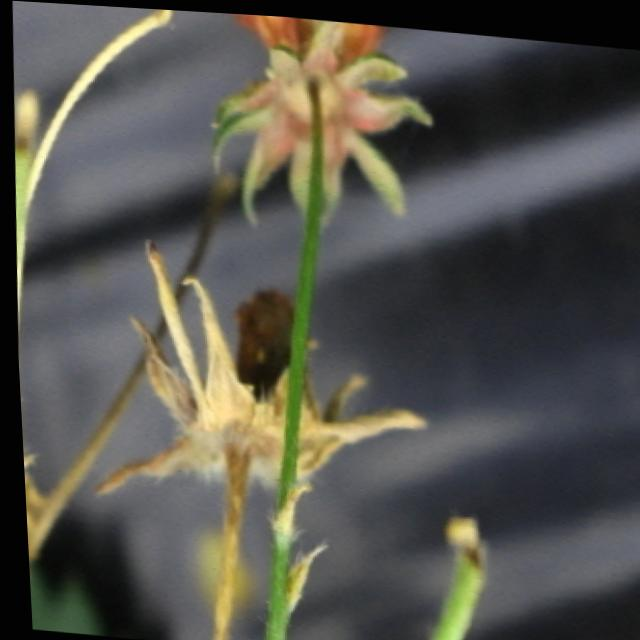Gray Mold: (91, 236, 421, 495)
